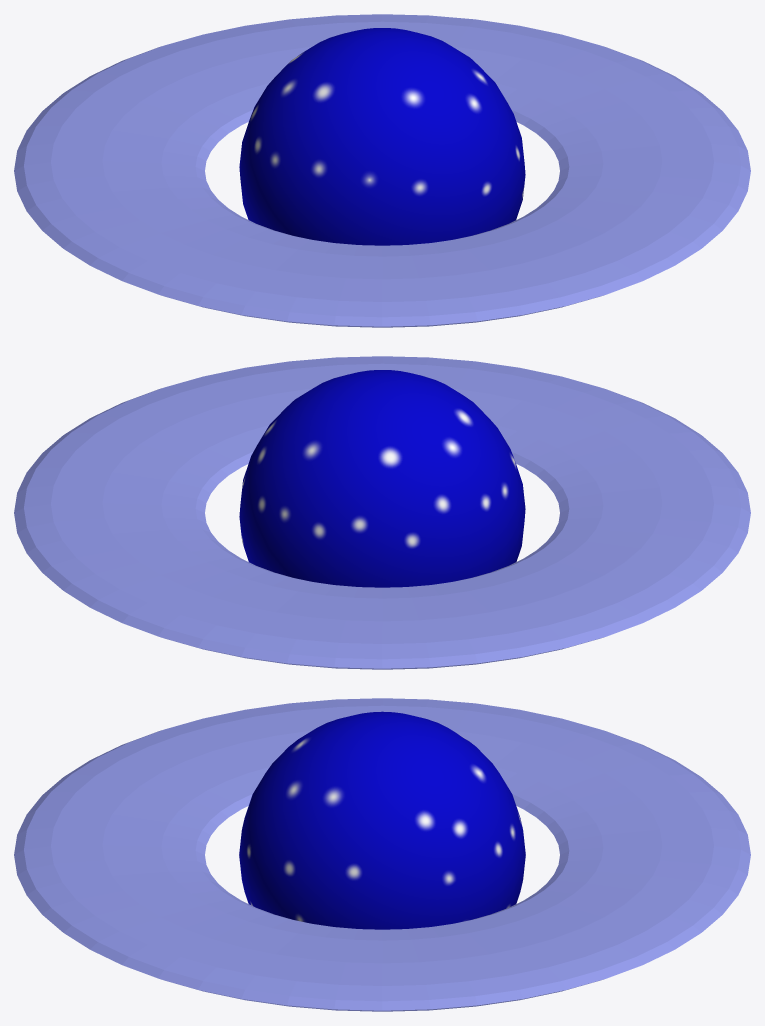
Rendered from planeta.fbx.
3 renders of one model, top to bottom at view 1: azimuth 30°, elevation 25°; view 2: azimuth 150°, elevation 25°; view 3: azimuth 270°, elevation 25°, orthographic.
Visible parts, largest first — view 1: aura_planeta, planeta; view 2: aura_planeta, planeta; view 3: aura_planeta, planeta.
Part boxes in pixels (bbox=[...]): aura_planeta: bbox=[14, 14, 750, 327]; planeta: bbox=[239, 28, 525, 245]; aura_planeta: bbox=[14, 356, 750, 669]; planeta: bbox=[239, 370, 525, 587]; aura_planeta: bbox=[14, 698, 750, 1011]; planeta: bbox=[239, 711, 525, 929].
Bounding box in the file's own units: 1699 × 661 × 1699.
Materials: 2 (1 with a texture image).
